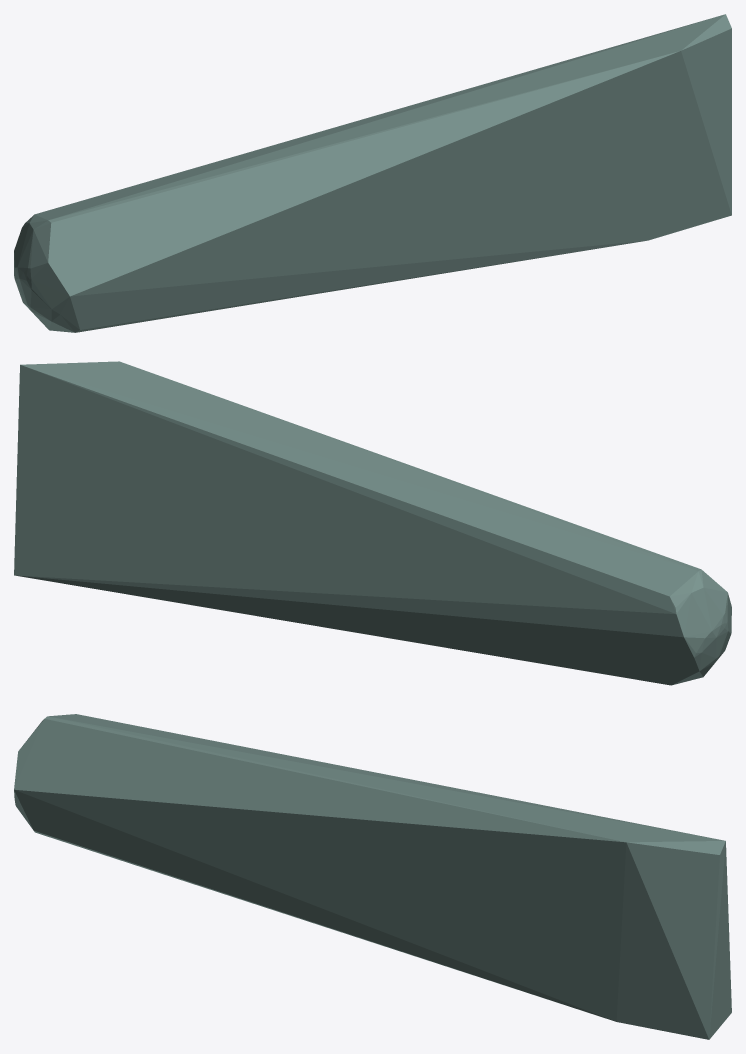
File: instrument_mallet_a01.glb
3 views of the same model, one above another, from view 1: azimuth 30°, elevation 25°; view 2: azimuth 150°, elevation 25°; view 3: azimuth 330°, elevation 25° (orthographic).
Visible parts, largest first — view 1: geometry_0; view 2: geometry_0; view 3: geometry_0.
Boxes of the visible parts, left/top/right/bottom form: geometry_0: left=14, top=14, right=731, bottom=332; geometry_0: left=14, top=361, right=731, bottom=685; geometry_0: left=14, top=714, right=731, bottom=1039.
Size of the model in its own units: 0.4792 by 0.126 by 0.0614.
